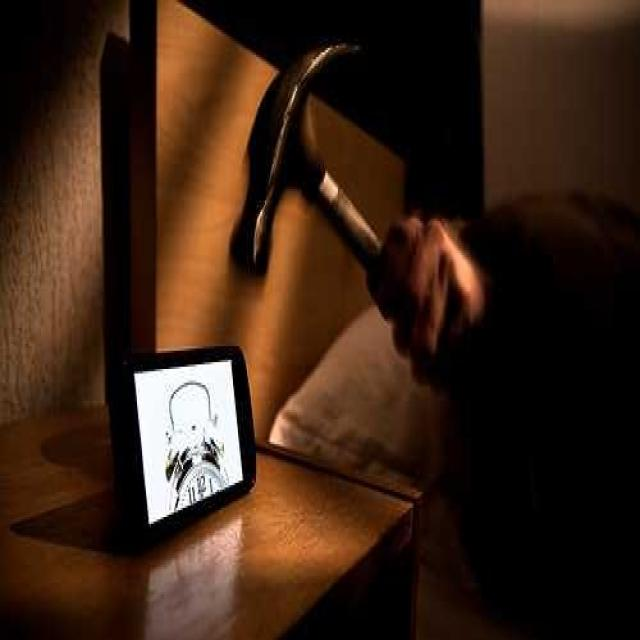hammer: (233, 42, 487, 397)
